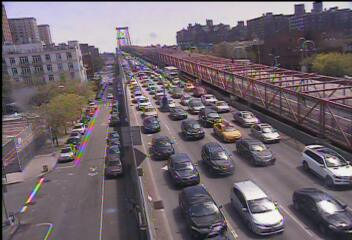neg: (163, 158, 206, 215), (205, 95, 247, 151), (228, 176, 269, 230), (149, 63, 182, 107), (70, 120, 102, 164), (114, 142, 146, 185), (99, 27, 131, 70), (289, 51, 321, 93), (28, 142, 58, 183), (241, 15, 270, 54), (46, 45, 73, 81)
